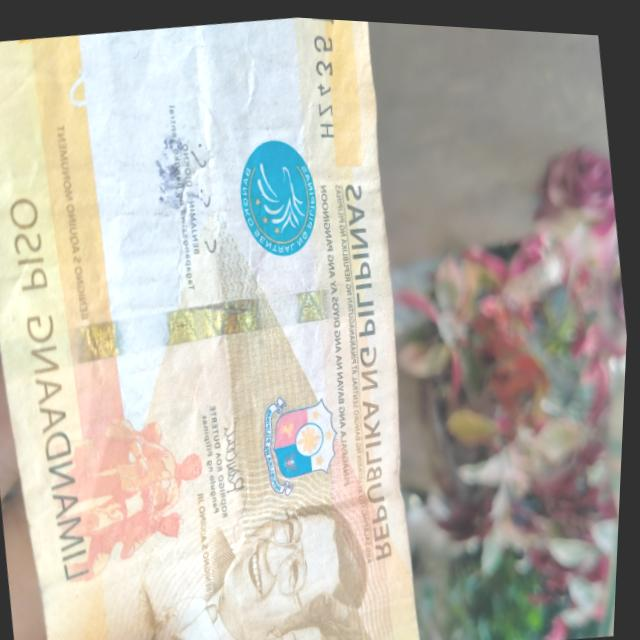security_thread: (8, 258, 404, 418)
